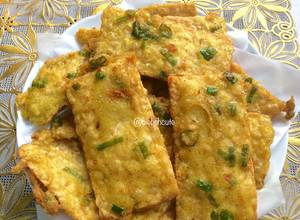Tempe: (83, 64, 158, 218), (163, 71, 235, 205), (88, 11, 238, 72)
